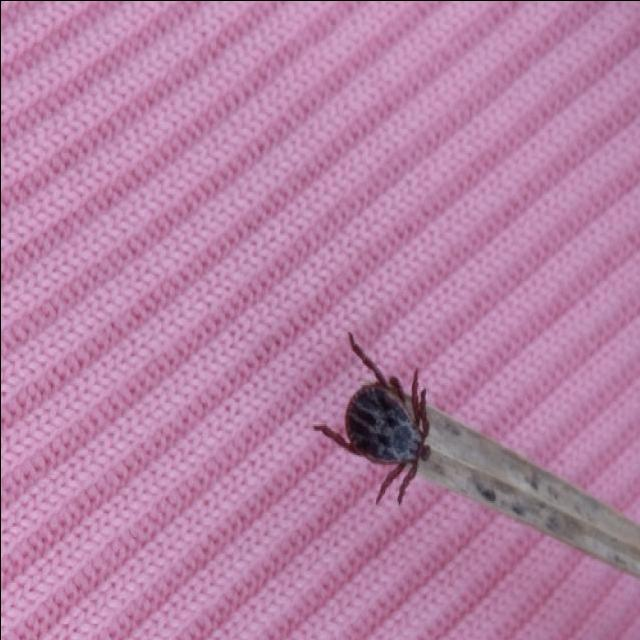Dermacentor Reticulatus-M: (312, 333, 430, 505)
